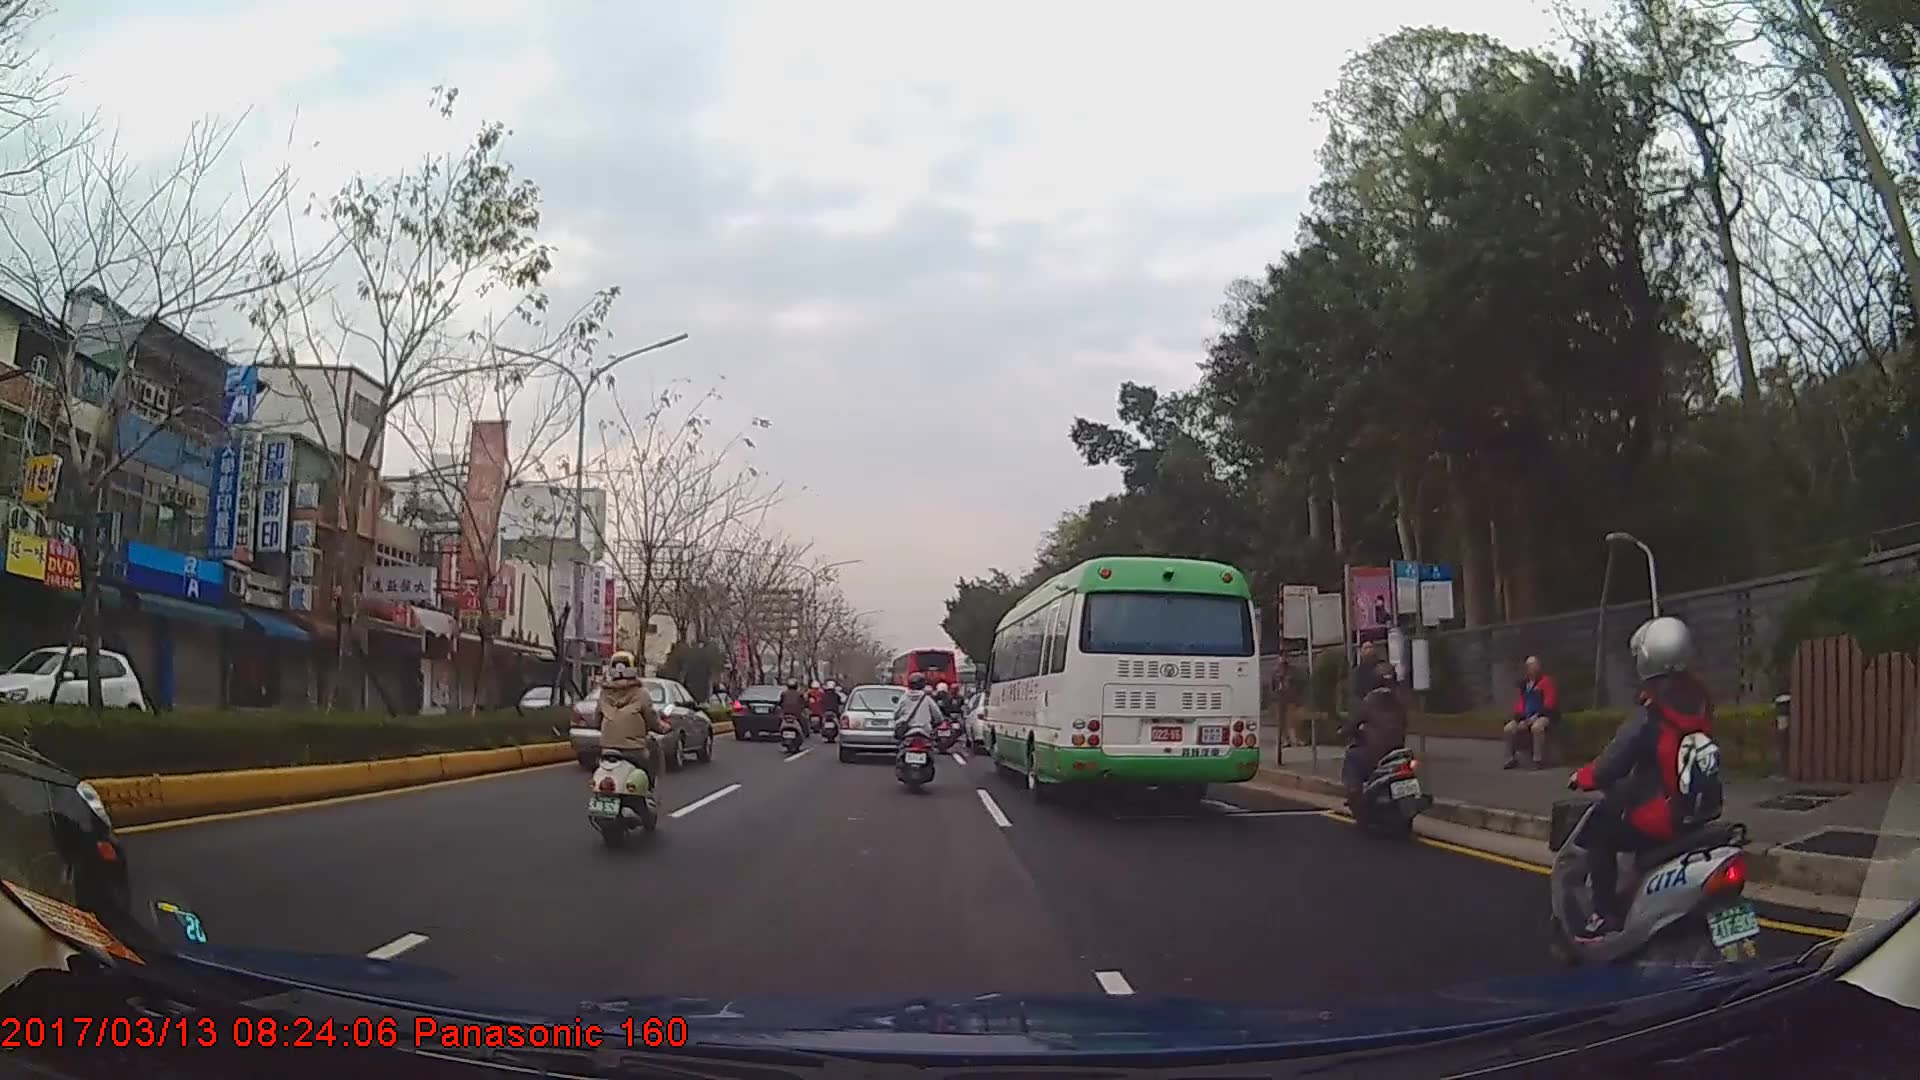pedestrian: (1345, 642, 1400, 788), (1506, 654, 1561, 774), (1267, 648, 1303, 752)
rider: (1551, 615, 1759, 970), (1333, 661, 1426, 846), (592, 650, 675, 848), (895, 676, 946, 794), (781, 679, 813, 756), (933, 681, 961, 738), (821, 681, 844, 744), (808, 681, 828, 735)
vehicle: (981, 555, 1262, 801), (0, 636, 148, 740), (568, 677, 712, 769), (838, 685, 922, 763), (892, 647, 962, 718), (731, 682, 809, 743)
